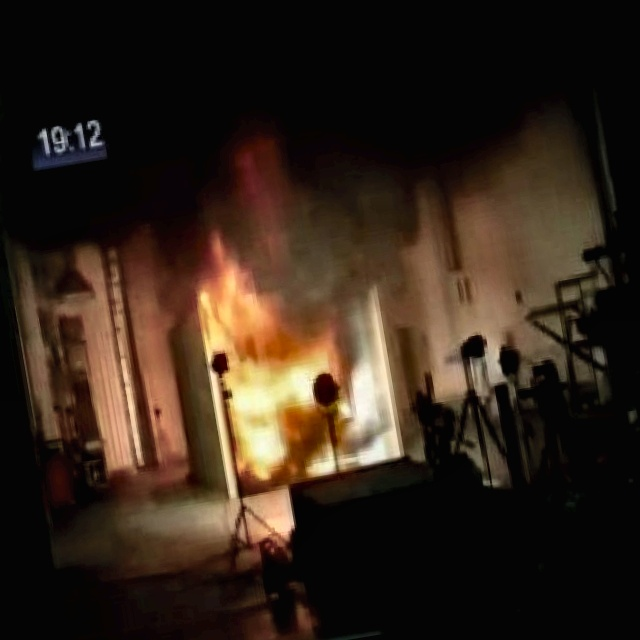fire: (201, 272, 362, 483)
smoke: (0, 0, 627, 322)
